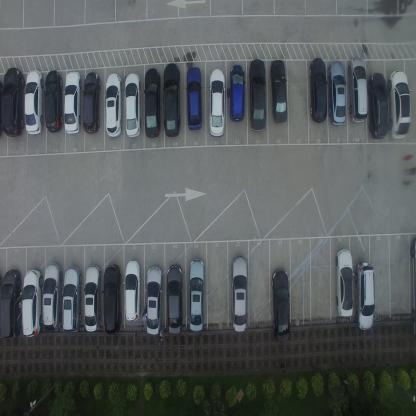car: (387, 68, 411, 140), (1, 67, 24, 138), (21, 268, 42, 339), (0, 268, 21, 339), (354, 261, 375, 331), (61, 265, 82, 335), (42, 262, 63, 332), (271, 267, 290, 343), (248, 58, 267, 133), (102, 261, 121, 335), (162, 61, 180, 139), (368, 71, 388, 140), (348, 56, 368, 123), (268, 59, 288, 125), (335, 248, 354, 317), (231, 253, 247, 333), (327, 59, 346, 126), (24, 68, 43, 134), (208, 66, 225, 139), (44, 68, 63, 133), (308, 57, 327, 122), (144, 67, 161, 138), (145, 265, 162, 336), (188, 257, 204, 332), (185, 65, 203, 131), (105, 72, 123, 138), (63, 70, 81, 136), (84, 264, 101, 333), (82, 70, 100, 134), (166, 264, 182, 336), (124, 258, 141, 322), (124, 71, 140, 138), (228, 64, 245, 124)
